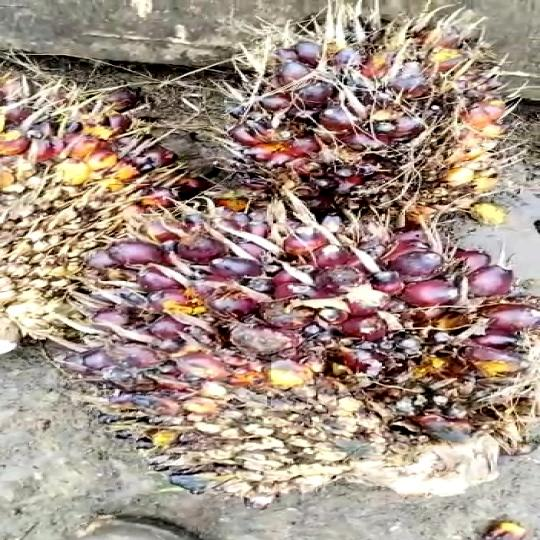masak: (71, 202, 540, 508), (191, 0, 540, 246), (0, 53, 220, 355)
